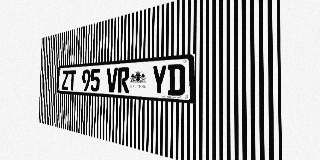5: (90, 69, 100, 92)
9: (82, 69, 91, 91)
D: (167, 64, 185, 96)
R: (117, 67, 130, 93)
T: (68, 70, 76, 90)
V: (107, 68, 118, 93)
Y: (151, 65, 167, 95)
Z: (62, 70, 69, 90)
